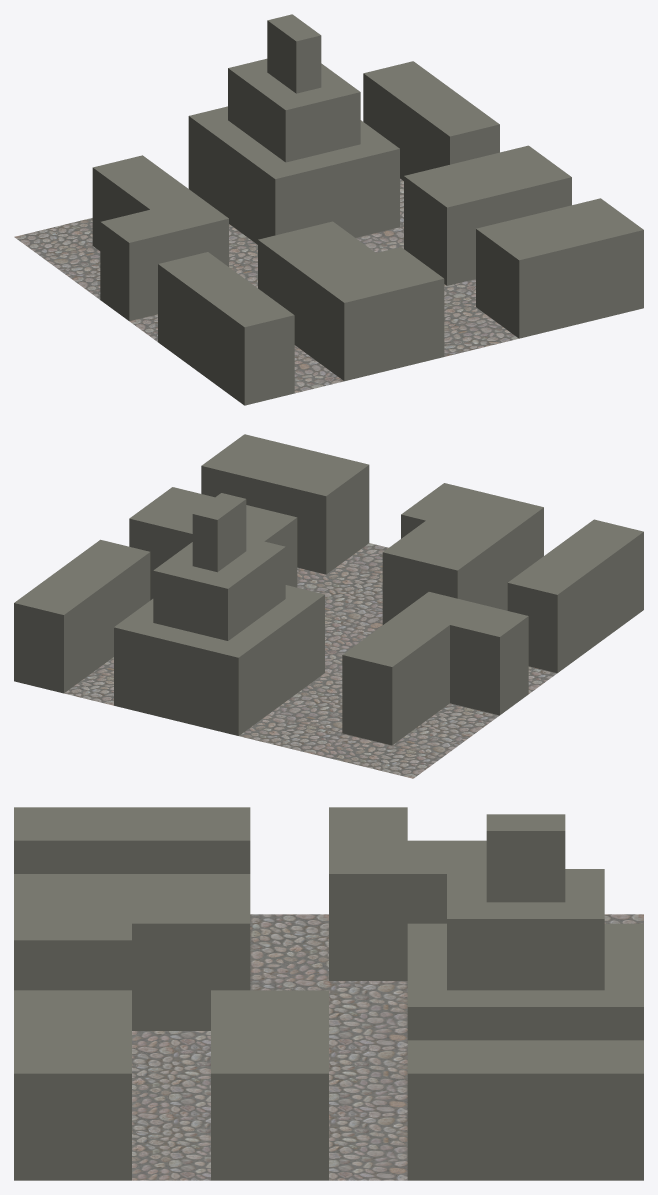
The model's file is tile2.fbx.
3 views of the same model, one above another, from view 1: azimuth 30°, elevation 25°; view 2: azimuth 150°, elevation 25°; view 3: azimuth 270°, elevation 25° (orthographic). The views are drawn at different scales.
Parts seen in each view (by area): view 1: Tile2; view 2: Tile2; view 3: Tile2.
Boxes of the visible parts, x1,y1,x2,y2 form: Tile2: [14, 14, 643, 405]; Tile2: [14, 434, 643, 778]; Tile2: [14, 807, 643, 1180].
Bounding box in the file's own units: 1600 × 700 × 1600.
